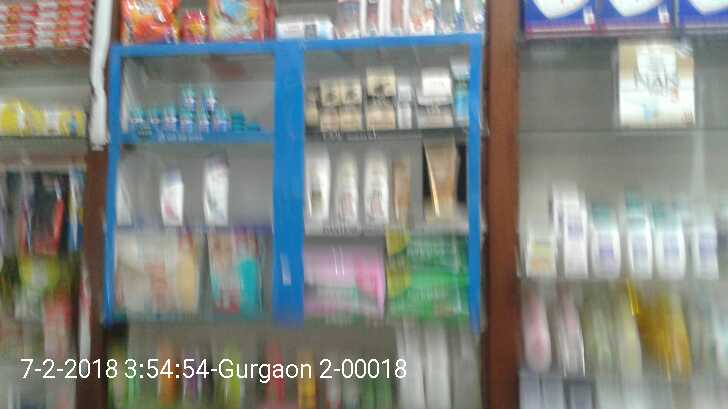vicks: (124, 87, 264, 135)
